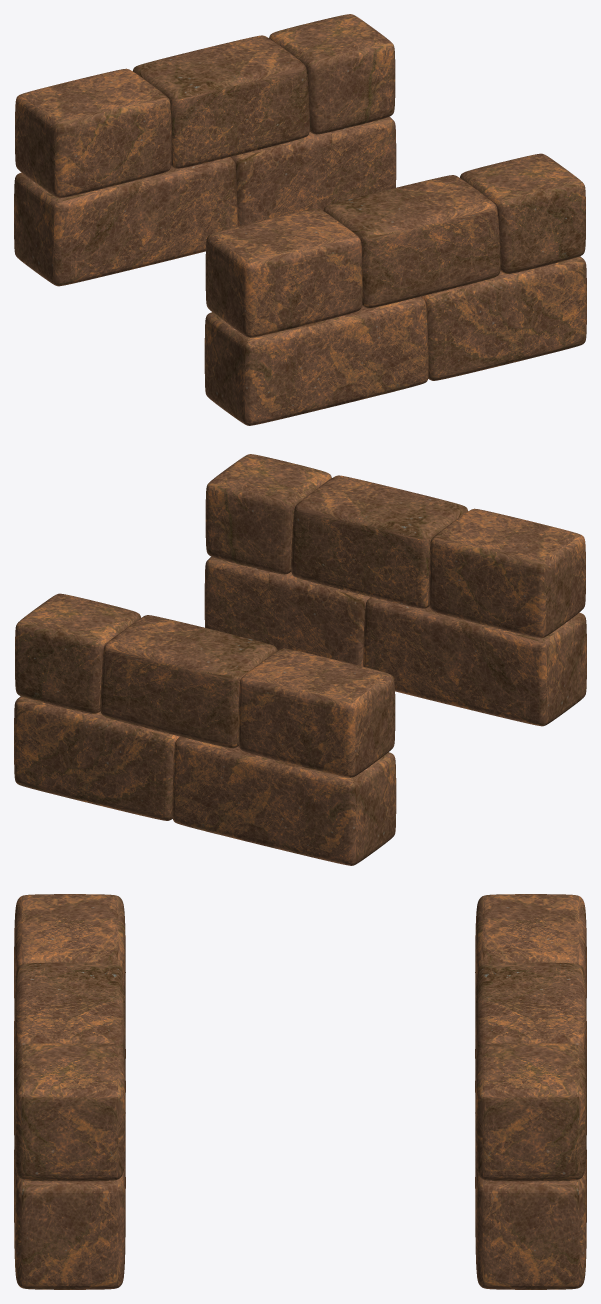
File: FirePlace2.fbx
3 views of the same model, one above another, from view 1: azimuth 30°, elevation 25°; view 2: azimuth 150°, elevation 25°; view 3: azimuth 270°, elevation 25° (orthographic). The views are drawn at different scales.
Visible parts, largest first — view 1: Fireplace; view 2: Fireplace; view 3: Fireplace.
Boxes of the visible parts, x1,y1,x2,y2 form: Fireplace: (14, 14, 586, 425); Fireplace: (14, 454, 586, 865); Fireplace: (14, 894, 586, 1289).
Size of the model in its own units: 0.9898 by 0.4602 by 1.18.
1 material, 1 textured.
